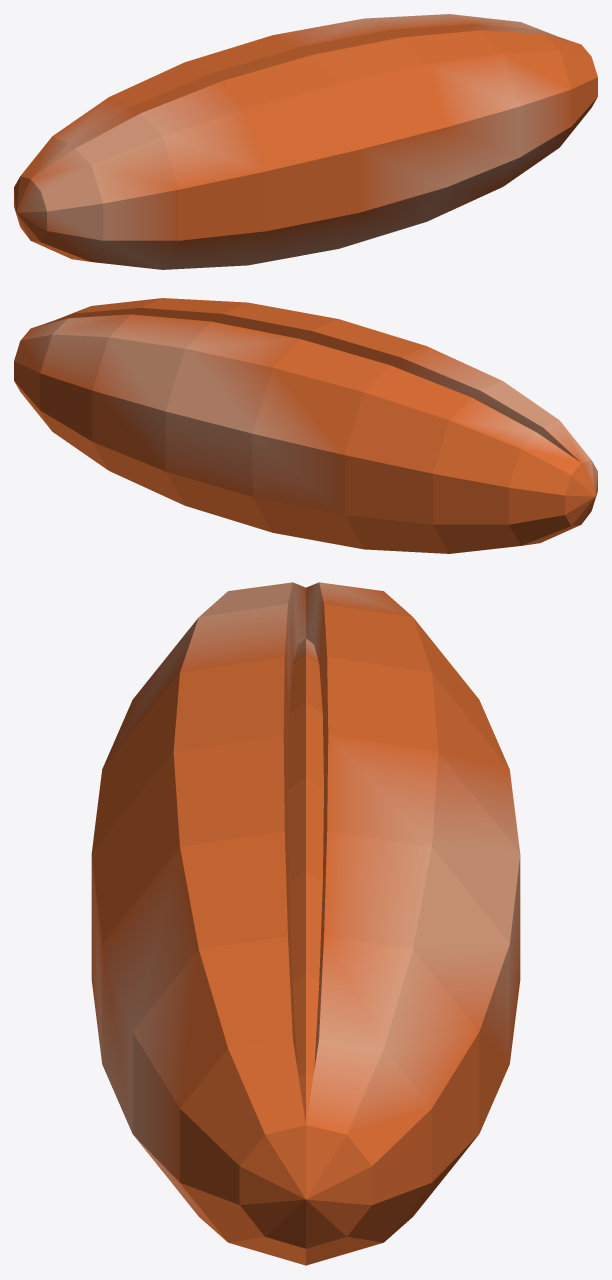
The model's file is Wheat_Seed_Standin.fbx.
3 views of the same model, one above another, from view 1: azimuth 30°, elevation 25°; view 2: azimuth 150°, elevation 25°; view 3: azimuth 270°, elevation 25° (orthographic). The views are drawn at different scales.
Parts seen in each view (by area): view 1: pSphere1; view 2: pSphere1; view 3: pSphere1.
Part boxes in pixels (bbox=[...]): pSphere1: bbox=[14, 14, 597, 269]; pSphere1: bbox=[14, 298, 597, 553]; pSphere1: bbox=[91, 582, 520, 1265].
Size of the model in its own units: 0.2 by 0.0637 by 0.0641.
